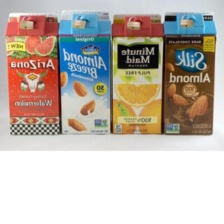carton: (4, 7, 60, 137), (161, 8, 217, 137), (57, 4, 110, 138), (109, 8, 163, 137)
